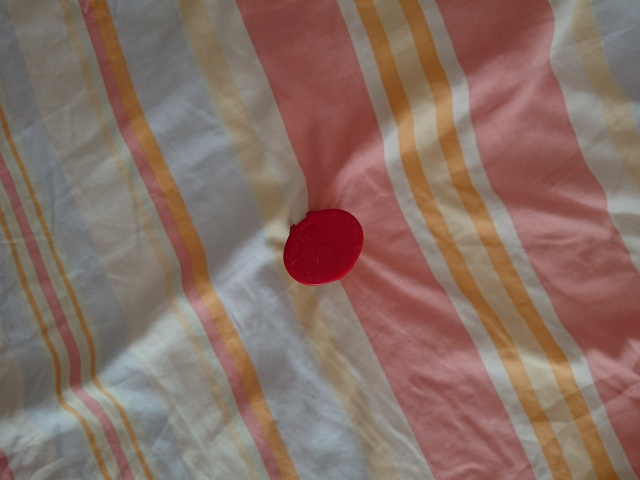Kotanyi Curry Spices Mix 70g: (279, 206, 365, 288)
